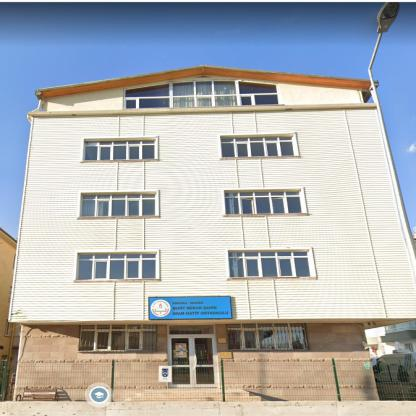door: (168, 336, 217, 389)
window: (124, 76, 278, 108), (226, 248, 313, 277), (76, 250, 158, 280), (223, 187, 304, 215), (227, 324, 307, 350), (220, 132, 297, 158), (79, 326, 157, 350), (80, 192, 157, 216), (83, 138, 156, 160), (167, 326, 213, 335)
